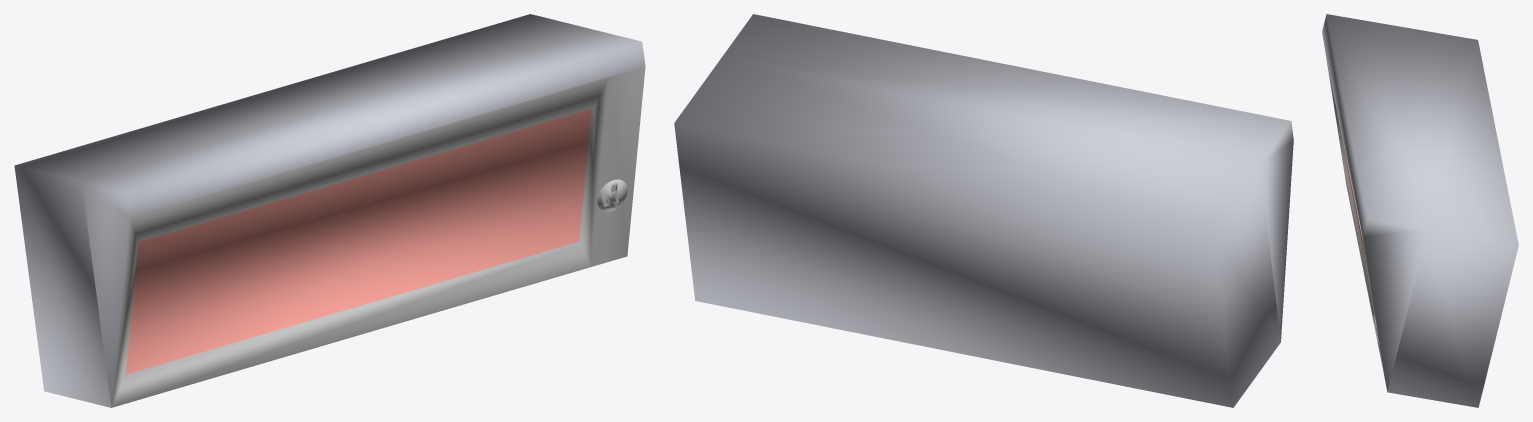
Rendered from stateroom_light.fbx.
3 renders of one model, left to right at view 1: azimuth 30°, elevation 25°; view 2: azimuth 150°, elevation 25°; view 3: azimuth 270°, elevation 25°, orthographic. The views are drawn at different scales.
Visible parts, largest first — view 1: Light:Layer1, Light:Layer2; view 2: Light:Layer1; view 3: Light:Layer1.
Part boxes in pixels (bbox=[...]): Light:Layer1: bbox=[14, 14, 645, 407]; Light:Layer2: bbox=[597, 179, 627, 212]; Light:Layer1: bbox=[674, 14, 1293, 407]; Light:Layer1: bbox=[1322, 14, 1518, 407].
Bounding box in the file's own units: 1064 × 453 × 420.
